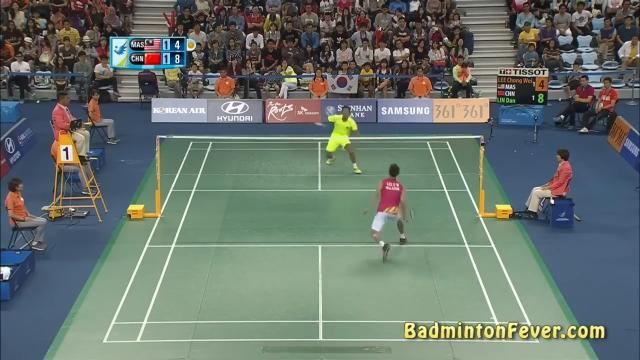Shuttlecock: (312, 120, 324, 132)
